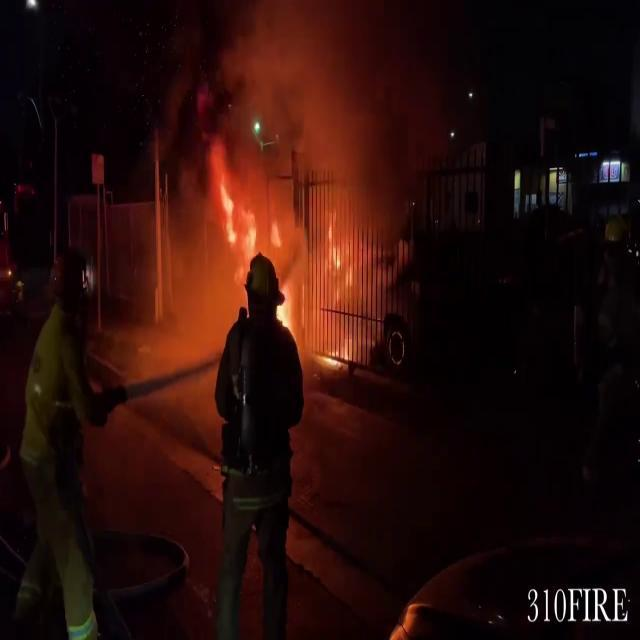Fire: (214, 168, 302, 309)
Smoke: (129, 1, 419, 376)
